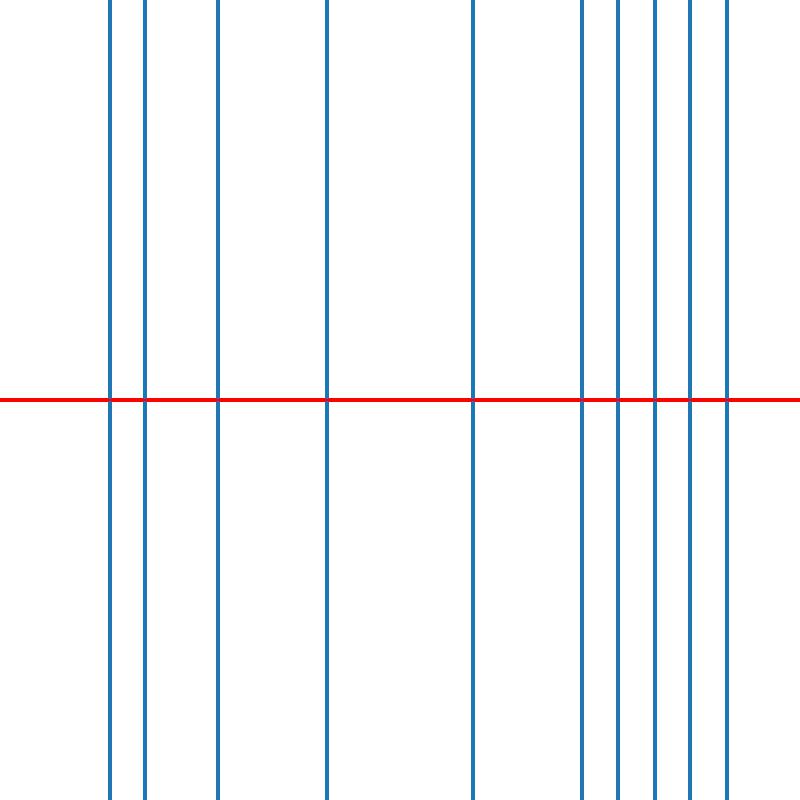root: (650, 396, 658, 404), (141, 396, 149, 404), (687, 396, 694, 404), (105, 396, 112, 404), (614, 396, 621, 404), (323, 396, 330, 404), (723, 396, 730, 404), (469, 396, 476, 404), (578, 396, 585, 404), (214, 396, 221, 404)
